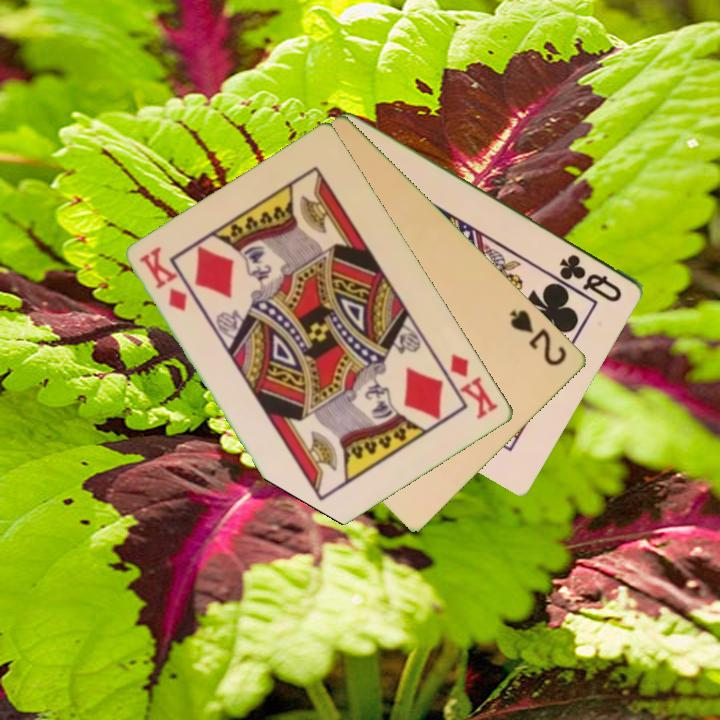2s: (506, 305, 570, 369)
Kd: (446, 350, 502, 423), (136, 243, 191, 314)
Qc: (556, 250, 626, 305)
